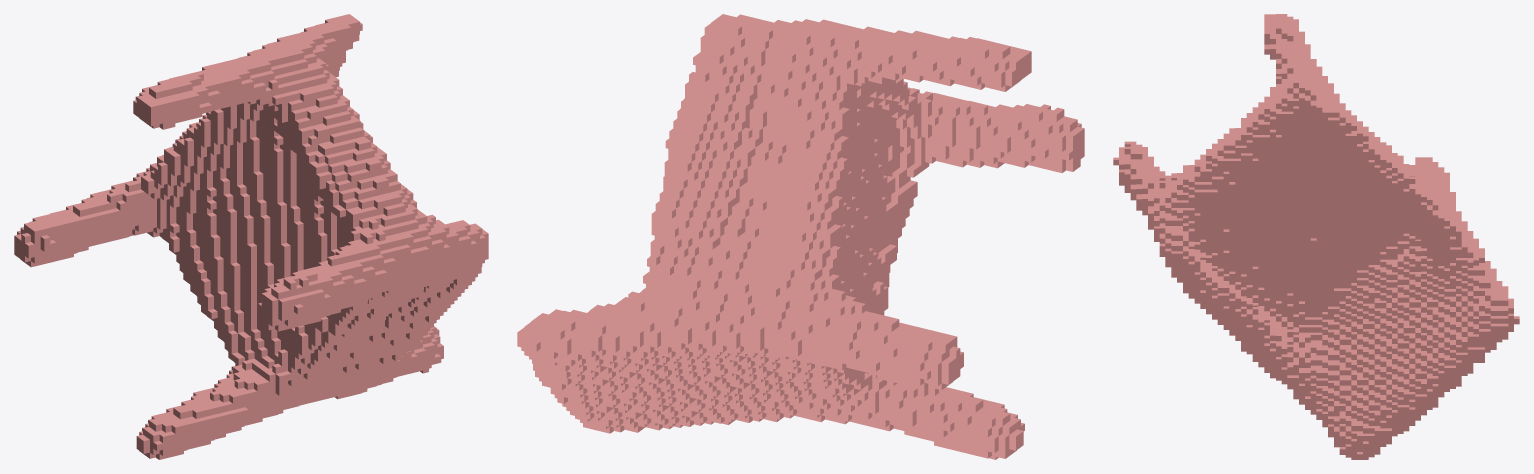
The model's file is chair_1.obj.
The picture shows the model from 3 angles, left to right: view 1: azimuth 30°, elevation 25°; view 2: azimuth 150°, elevation 25°; view 3: azimuth 270°, elevation 25°; orthographic projection. The views are drawn at different scales.
Visible parts, largest first — view 1: chair_2; view 2: chair_2; view 3: chair_2.
Boxes of the visible parts, left/top/right/bottom form: chair_2: left=14, top=14, right=488, bottom=459; chair_2: left=517, top=14, right=1084, bottom=459; chair_2: left=1113, top=14, right=1519, bottom=459.
Bounding box in the file's own units: 62 × 60 × 70.
